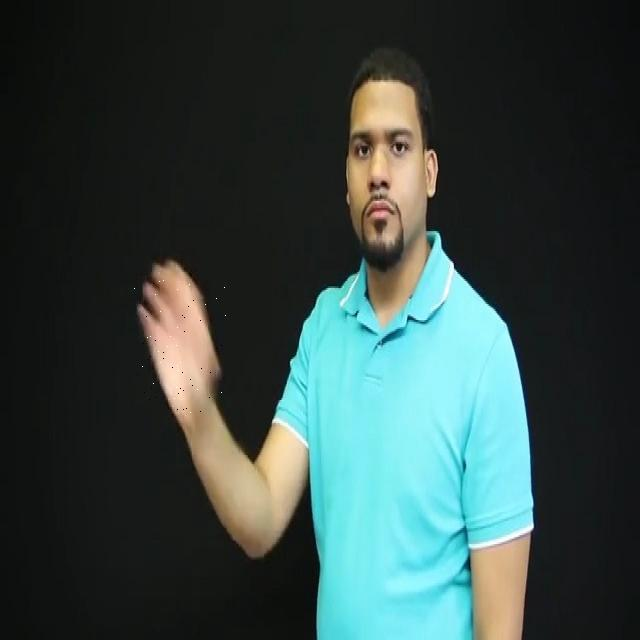pepper: (132, 268, 228, 416)
